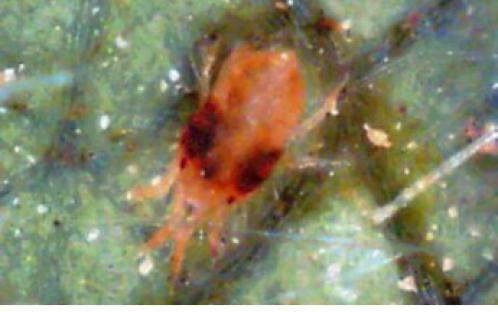Mites: (137, 25, 307, 309)
